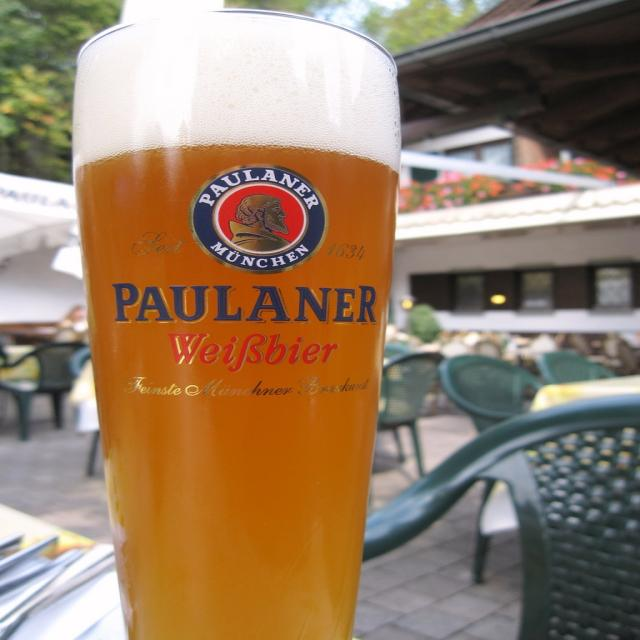paulaner: (187, 164, 331, 276)
